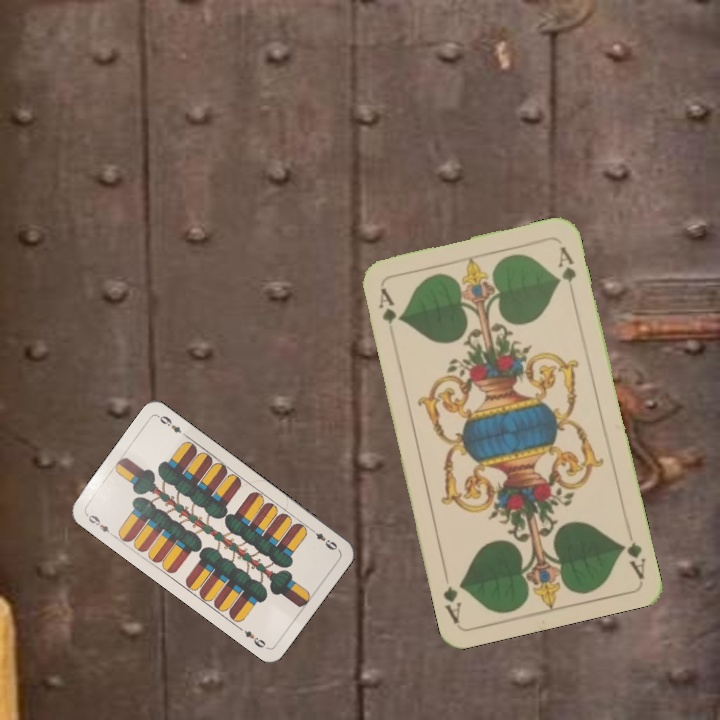E9: (306, 524, 341, 553), (82, 510, 117, 539)
GA: (374, 284, 399, 341), (617, 538, 648, 581)
